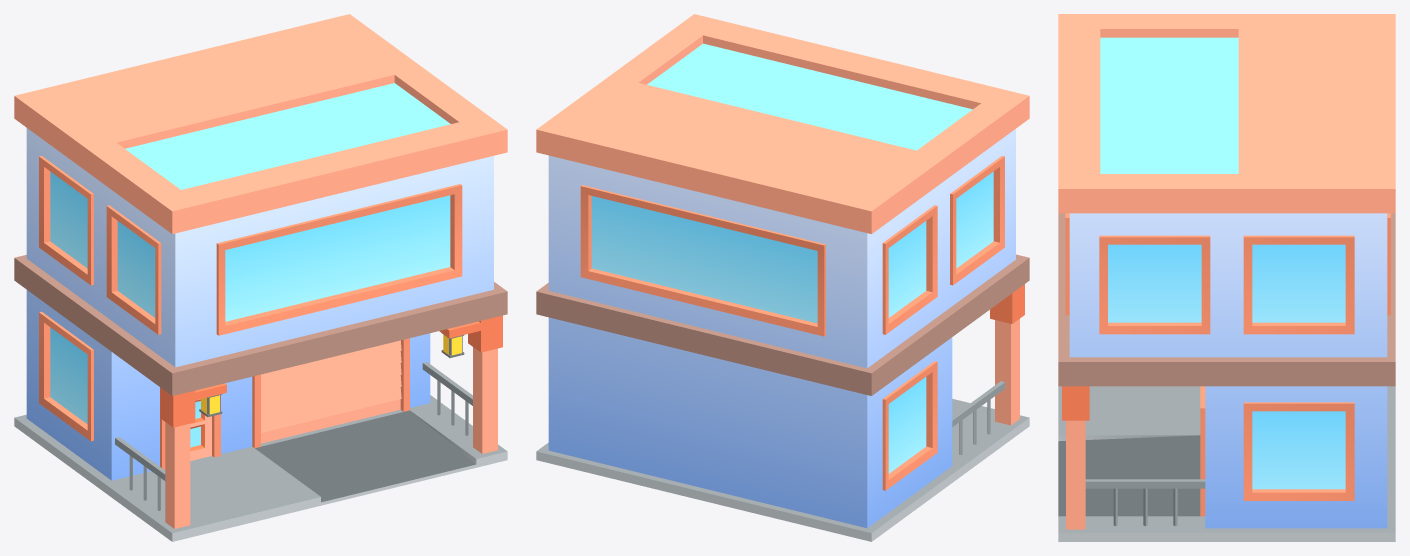
Rendered from city2-building-living-17.glb.
3 renders of one model, left to right at view 1: azimuth 30°, elevation 25°; view 2: azimuth 150°, elevation 25°; view 3: azimuth 270°, elevation 25°, orthographic. The views are drawn at different scales.
Visible parts, largest first — view 1: Building_Living_17; view 2: Building_Living_17; view 3: Building_Living_17.
Part boxes in pixels (x1,y1,x2,y2): Building_Living_17: [14, 14, 507, 541]; Building_Living_17: [536, 14, 1029, 541]; Building_Living_17: [1058, 14, 1395, 541].
Bounding box in the file's own units: 8.03 × 7.57 × 6.55.
Materials: 1 (1 with a texture image).
